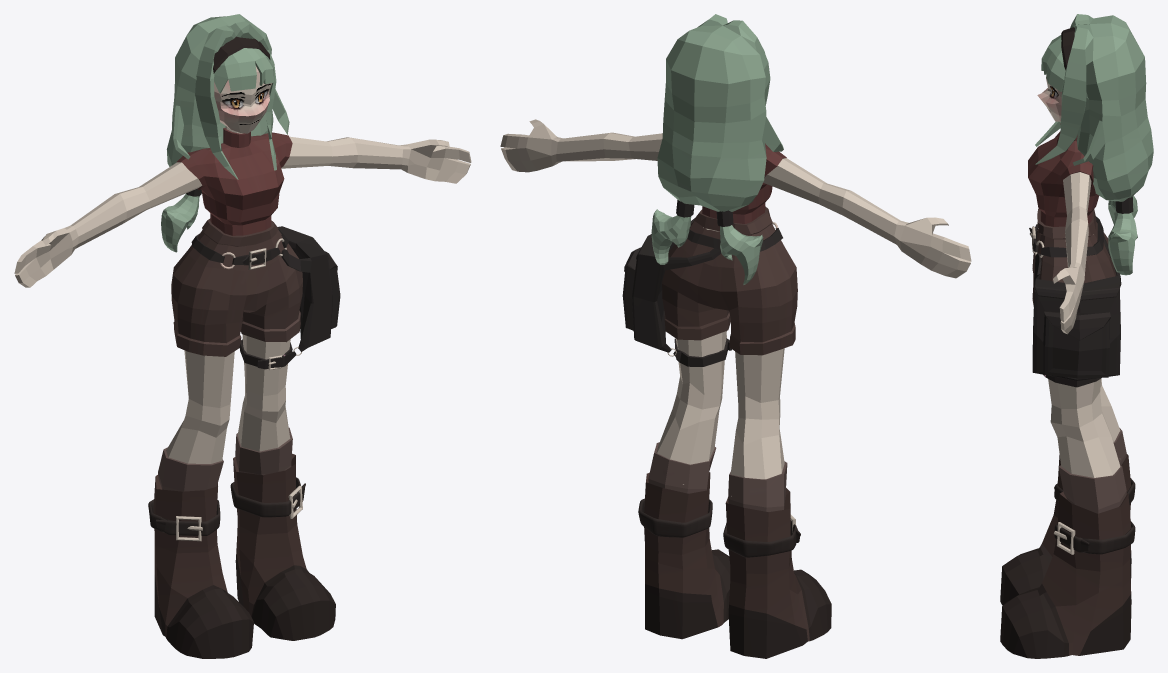
Rendered from zita.fbx.
The picture shows the model from 3 angles, left to right: view 1: azimuth 30°, elevation 25°; view 2: azimuth 150°, elevation 25°; view 3: azimuth 270°, elevation 25°; orthographic projection. The views are drawn at different scales.
Visible parts, largest first — view 1: object 1, .003, .005, .011, Cube.002, .002, Cube.008, .004, .007, Cube.003, Cube.005, Torus.003 (+1 smaller); view 2: object 1, Cube.002, .005, .003, .011, Cube.008, .004, .007, .002; view 3: Cube.002, .005, Cube.008, object 1, .011, .002, .003, .004, .007, Cube.005, Cube.003, Torus.003 (+2 smaller).
Boxes of the visible parts, <box> form: object 1: <box>14,126,471,463</box>; .003: <box>171,218,302,356</box>; .005: <box>153,453,306,637</box>; .011: <box>154,554,335,658</box>; Cube.002: <box>161,14,289,252</box>; .002: <box>177,128,292,235</box>; Cube.008: <box>191,226,340,369</box>; .004: <box>158,427,292,491</box>; .007: <box>148,477,305,535</box>; Cube.003: <box>214,66,271,133</box>; Cube.005: <box>214,48,274,93</box>; Torus.003: <box>176,238,302,541</box>; object 1: <box>500,119,971,496</box>; Cube.002: <box>651,14,783,284</box>; .005: <box>644,472,809,641</box>; .003: <box>662,206,797,355</box>; .011: <box>645,549,831,658</box>; Cube.008: <box>622,218,782,366</box>; .004: <box>648,442,787,511</box>; .007: <box>638,498,800,557</box>; .002: <box>702,143,786,223</box>; Cube.002: <box>1035,14,1153,275</box>; .005: <box>1042,454,1131,655</box>; Cube.008: <box>1029,216,1121,387</box>; object 1: <box>1048,172,1120,477</box>; .011: <box>1000,544,1131,658</box>; .002: <box>1028,123,1098,226</box>; .003: <box>1032,209,1116,306</box>; .004: <box>1059,428,1126,513</box>; .007: <box>1054,478,1135,554</box>; Cube.005: <box>1041,35,1065,91</box>; Cube.003: <box>1037,74,1061,121</box>; Torus.003: <box>1030,222,1075,554</box>.
Size of the model in its own units: 2.92 by 3.63 by 0.8384.
Materials: 1 (1 with a texture image).
